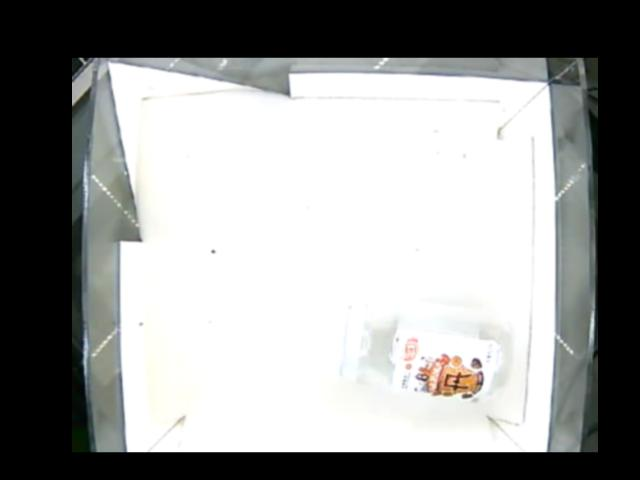Bottle: (327, 299, 514, 405)
